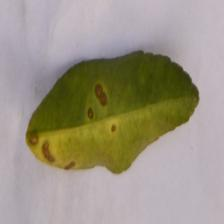canker: (7, 83, 137, 173)
